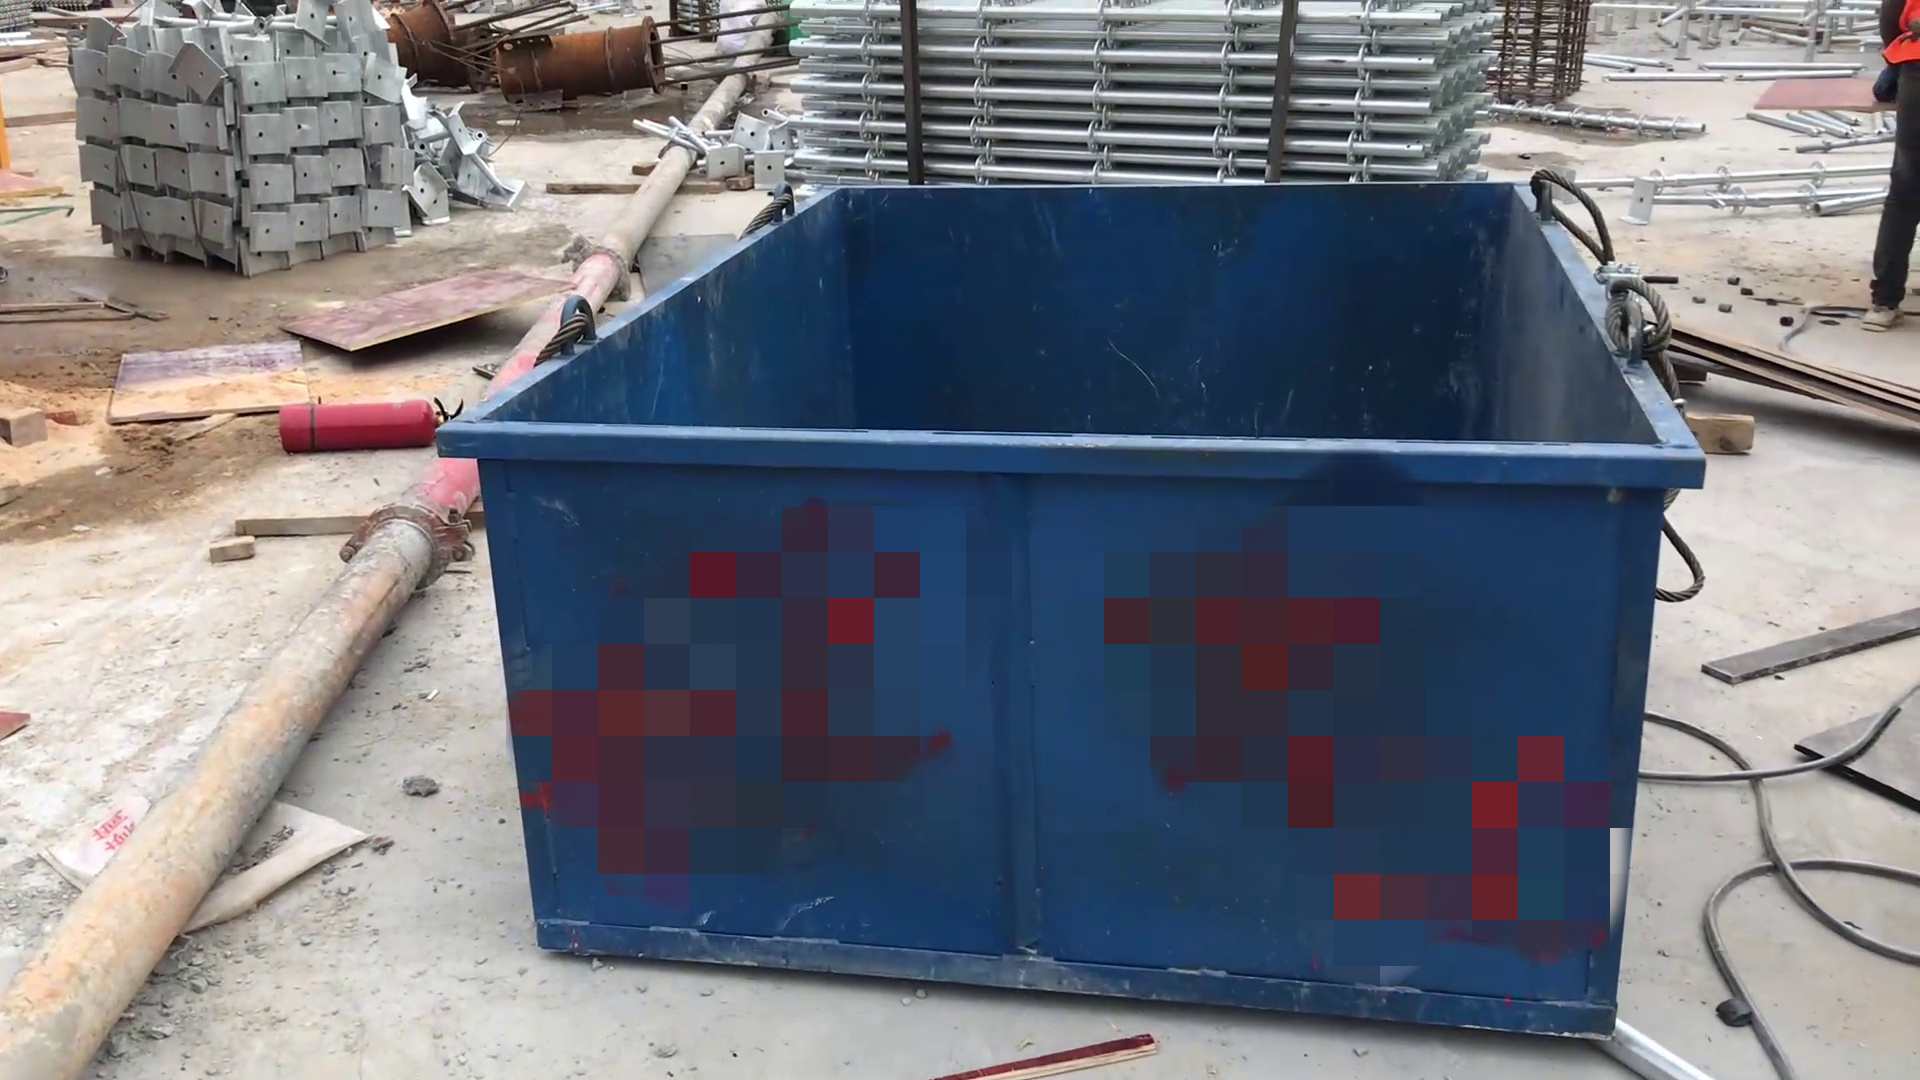board: (293, 268, 580, 338), (106, 337, 343, 418)
hopper: (418, 163, 1708, 1056)
person: (1859, 1, 1920, 339)
scaffold: (782, 2, 1510, 183), (56, 1, 456, 274)
